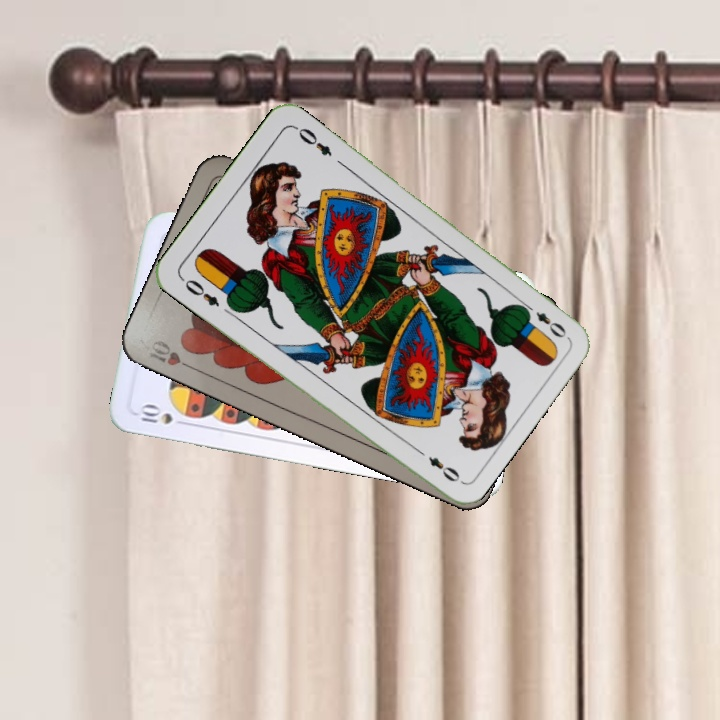EO: (518, 299, 570, 341), (177, 274, 222, 309)
H10: (145, 336, 199, 374)
S10: (136, 401, 191, 428)
